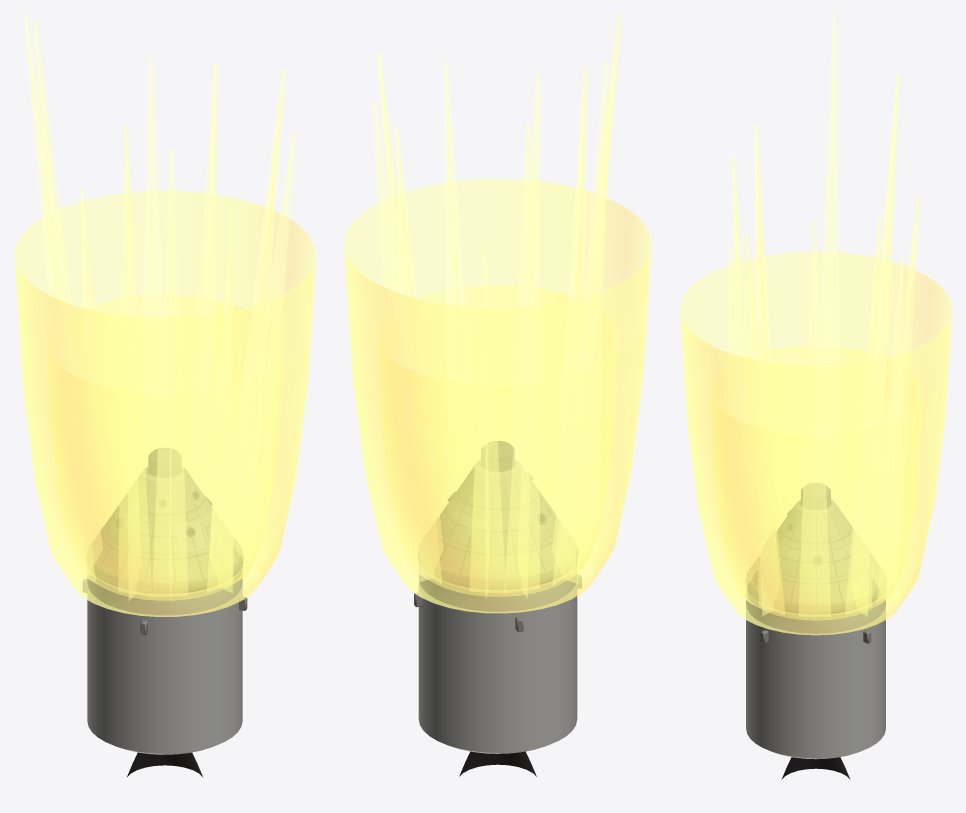
Rendered from reentry_set.glb.
3 renders of one model, left to right at view 1: azimuth 30°, elevation 25°; view 2: azimuth 150°, elevation 25°; view 3: azimuth 270°, elevation 25°, orthographic. The views are drawn at different scales.
Parts seen in each view (by area): view 1: HeatEnvelopeOuter, ReentryTrail, HeatEnvelope, ServiceModule, CommandModule; view 2: HeatEnvelopeOuter, HeatEnvelope, ReentryTrail, ServiceModule, CommandModule; view 3: HeatEnvelopeOuter, HeatEnvelope, ReentryTrail, ServiceModule, CommandModule.
Part boxes in pixels (x1,y1,x2,y2): HeatEnvelopeOuter: (14, 191, 315, 616); ReentryTrail: (24, 14, 295, 600); HeatEnvelope: (48, 295, 281, 600); ServiceModule: (83, 567, 247, 776); CommandModule: (94, 449, 241, 588); HeatEnvelopeOuter: (344, 178, 651, 613); HeatEnvelope: (379, 285, 616, 596); ReentryTrail: (372, 14, 620, 597); ServiceModule: (414, 574, 581, 776); CommandModule: (440, 441, 555, 582); HeatEnvelopeOuter: (680, 251, 951, 635); HeatEnvelope: (710, 345, 921, 620); ReentryTrail: (728, 14, 919, 616); ServiceModule: (746, 593, 885, 779); CommandModule: (748, 486, 878, 609).
Size of the model in its own units: 7.6 by 21.98 by 7.6.
